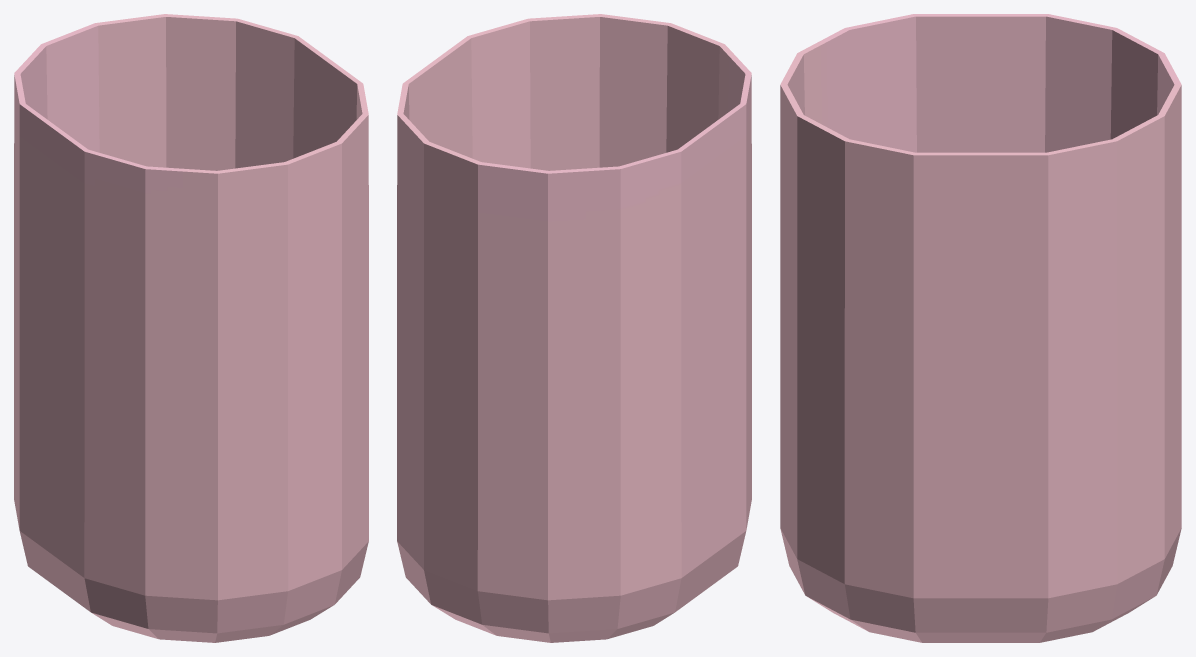
Rendered from ToolsCup.fbx.
3 renders of one model, left to right at view 1: azimuth 30°, elevation 25°; view 2: azimuth 150°, elevation 25°; view 3: azimuth 270°, elevation 25°, orthographic. The views are drawn at different scales.
Visible parts, largest first — view 1: toolsCup.001; view 2: toolsCup.001; view 3: toolsCup.001.
Boxes of the visible parts, <box> form: toolsCup.001: <box>14,14,368,642</box>; toolsCup.001: <box>397,14,751,642</box>; toolsCup.001: <box>780,14,1181,642</box>.
Size of the model in its own units: 269 by 448 by 323.
